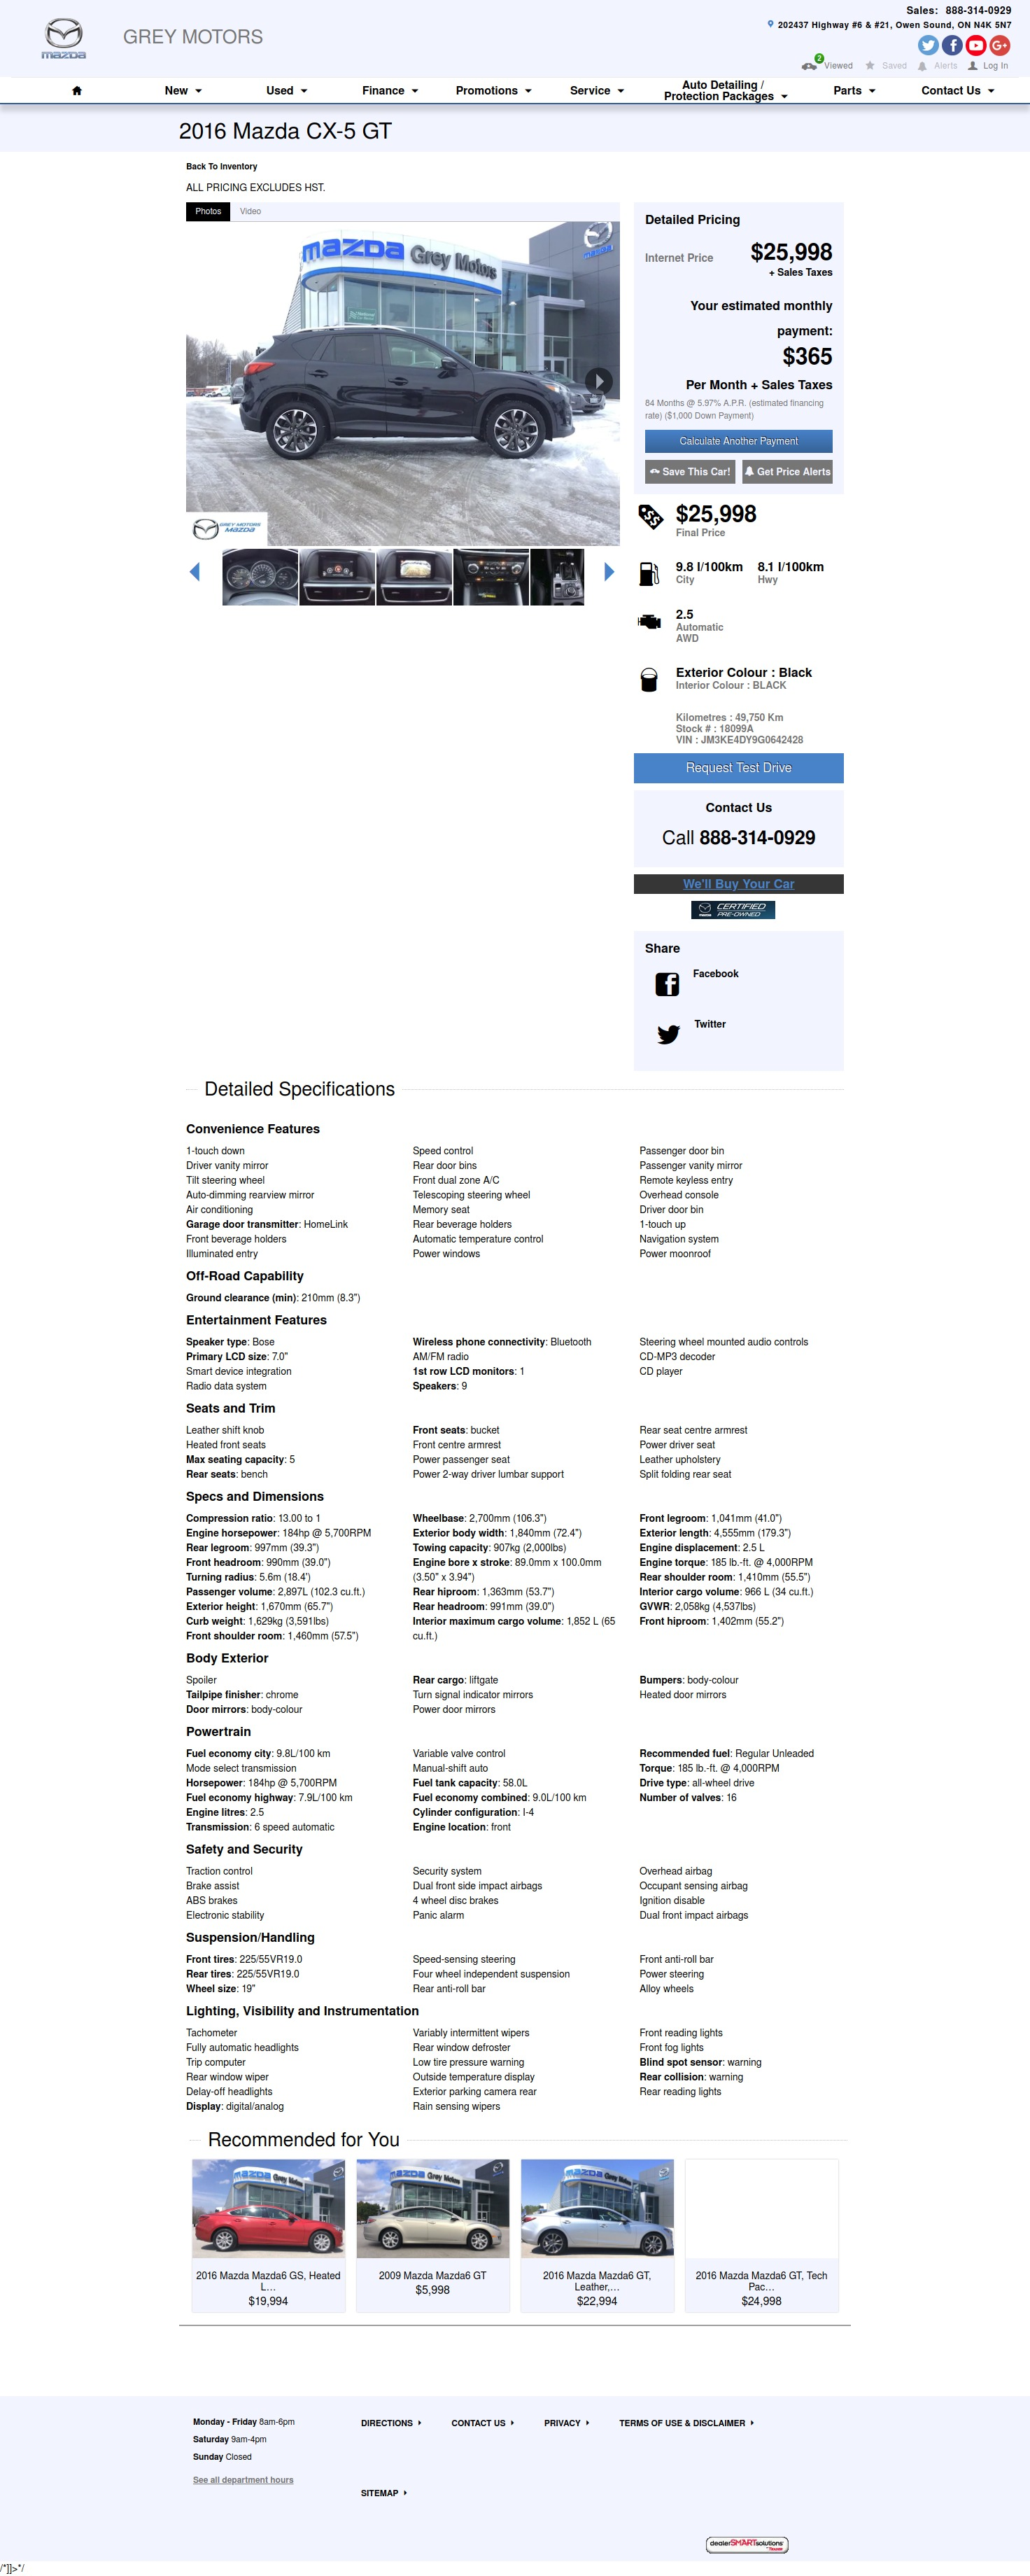car: (605, 562, 614, 583)
